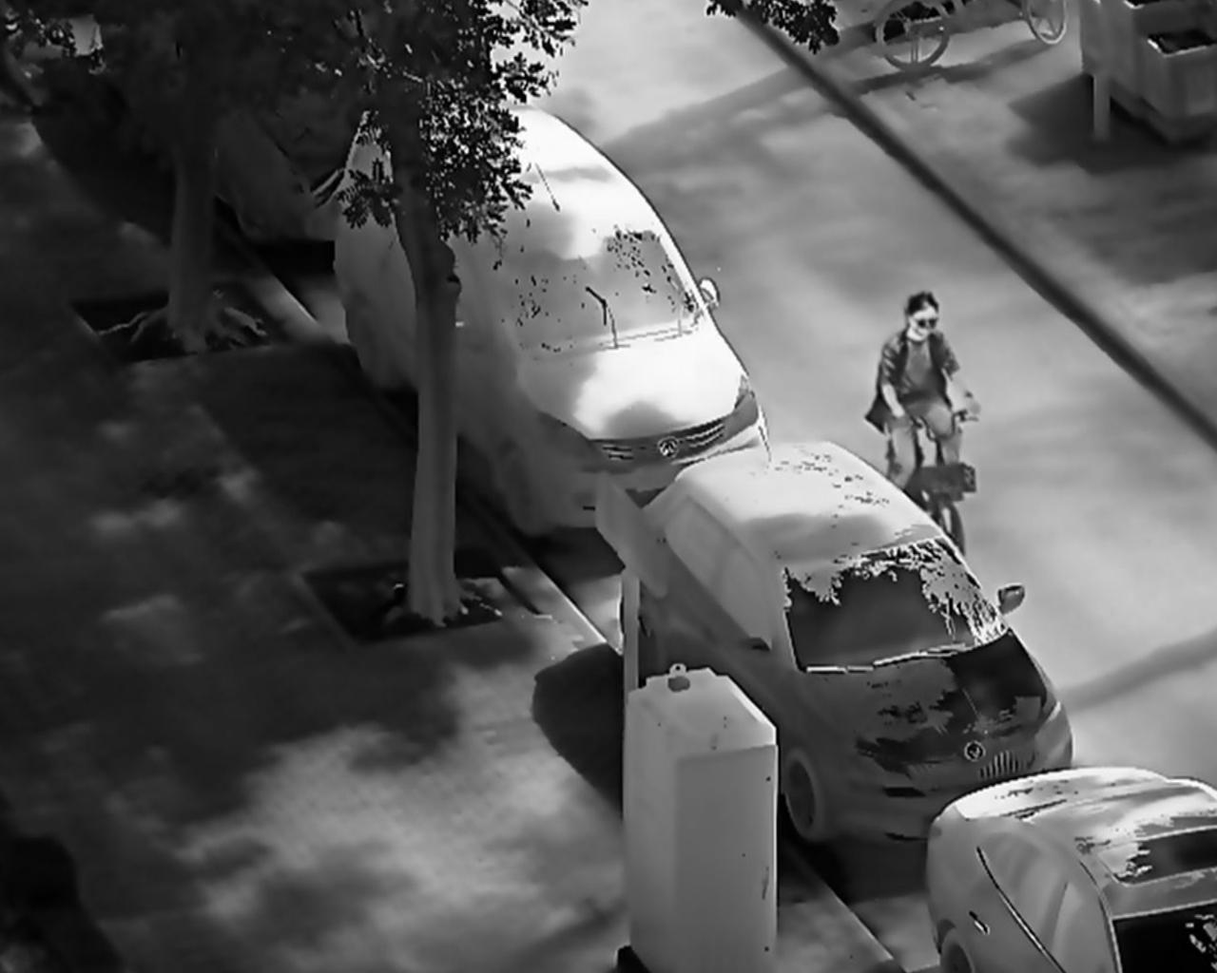person: (869, 287, 985, 501)
